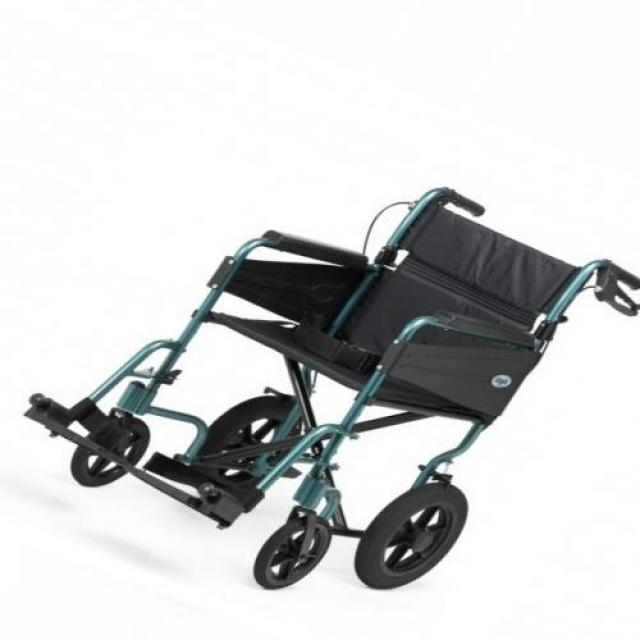wheelchair: (14, 176, 640, 602)
